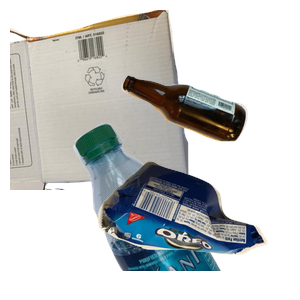cardboard: (10, 10, 191, 190)
glass: (119, 73, 300, 207)
plastic: (71, 120, 300, 300)
trash: (95, 158, 300, 300)
